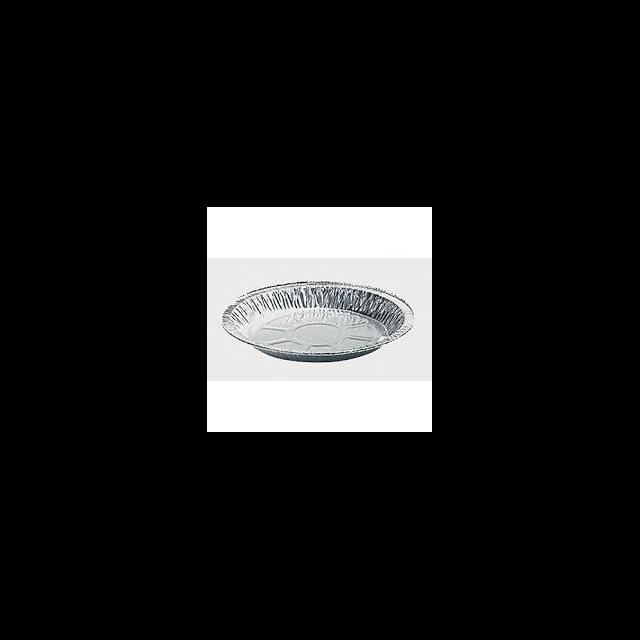metal: (218, 278, 418, 362)
